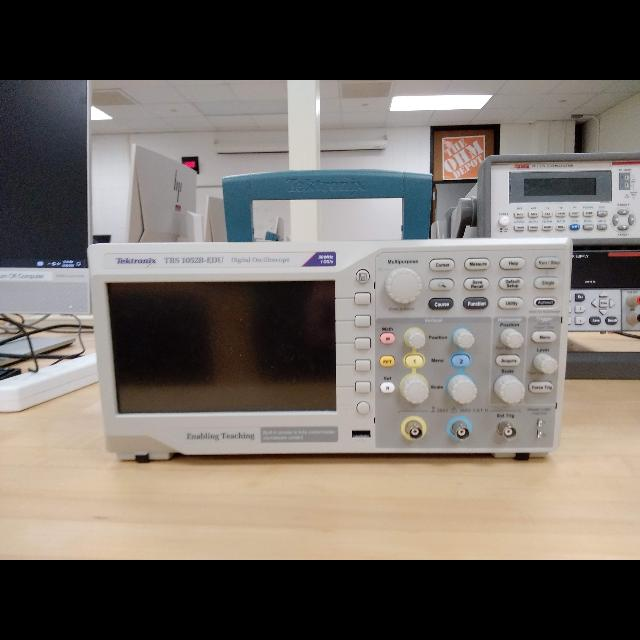Digital-Oscilloscope: (90, 240, 572, 454)
